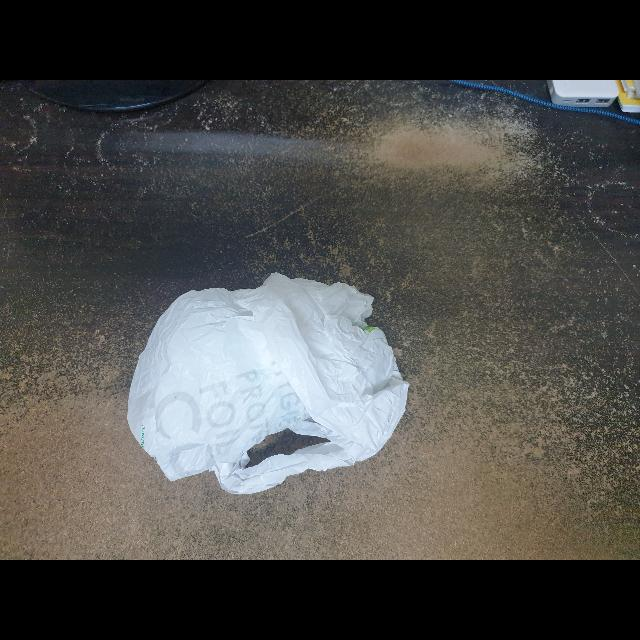plastic_bag: (119, 267, 417, 501)
